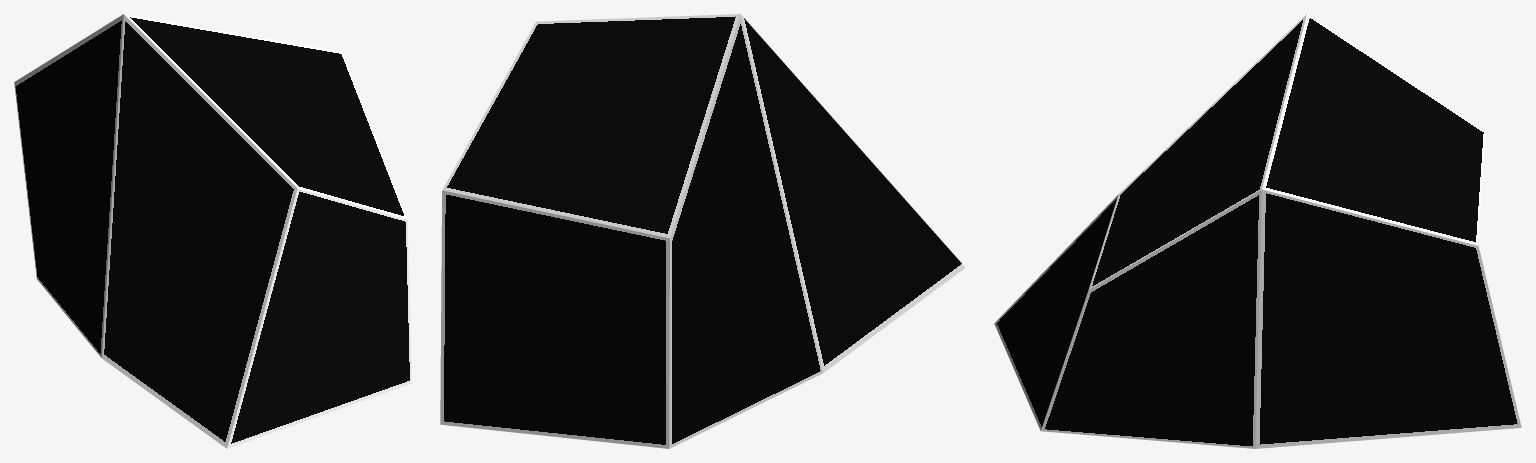
File: rock1.fbx
3 views of the same model, side by side, from view 1: azimuth 30°, elevation 25°; view 2: azimuth 150°, elevation 25°; view 3: azimuth 270°, elevation 25° (orthographic). The views are drawn at different scales.
Visible parts, largest first — view 1: Cube; view 2: Cube; view 3: Cube.
Part boxes in pixels (<box>): Cube: <box>14,14,411,448</box>; Cube: <box>440,14,965,448</box>; Cube: <box>994,14,1521,448</box>.
Size of the model in its own units: 353 by 200 by 246.
